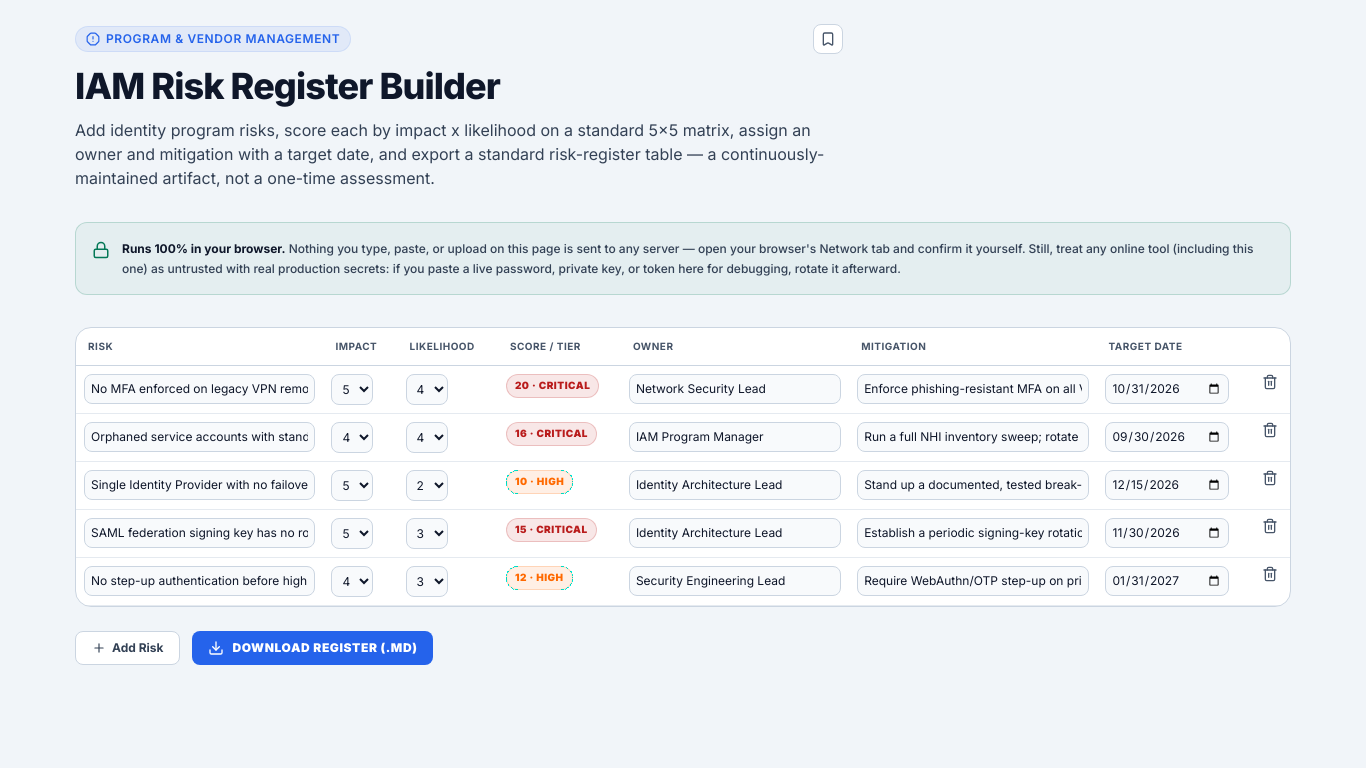
RiskRegisterBuilder page › adds a new blank risk row on click
Click the button "Add Risk". click: (128,648)
box: 75,631 -> 180,665
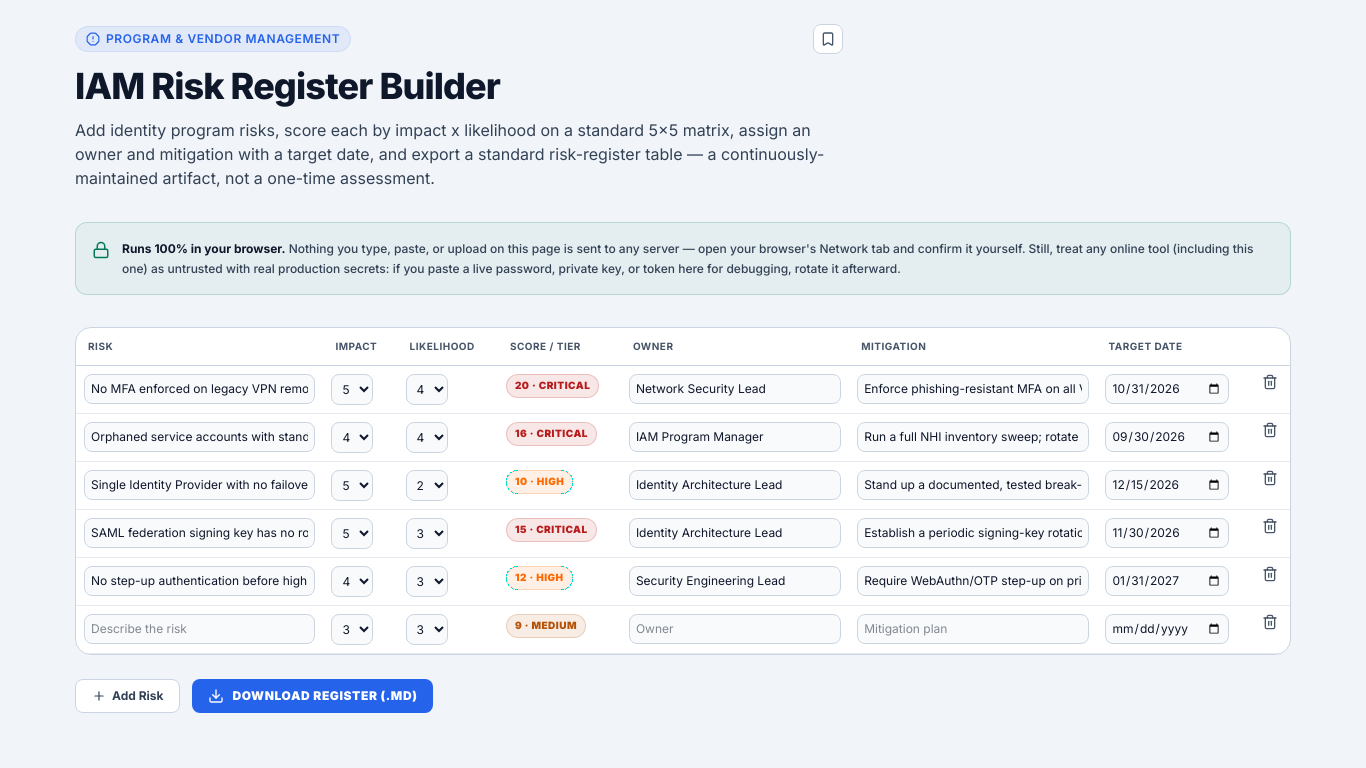
Now the number of fields with placeholder "Describe the risk" is 6, box 84,374 -> 315,404; 84,422 -> 315,452; 84,470 -> 315,500; 84,518 -> 315,548; 84,566 -> 315,596; 84,614 -> 315,644
